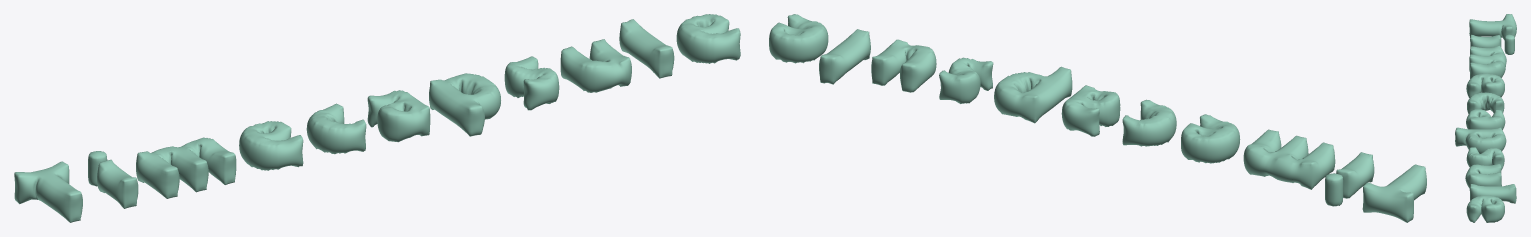
The model's file is title2.glb.
3 renders of one model, left to right at view 1: azimuth 30°, elevation 25°; view 2: azimuth 150°, elevation 25°; view 3: azimuth 270°, elevation 25°, orthographic. The views are drawn at different scales.
Parts seen in each view (by area): view 1: Text; view 2: Text; view 3: Text.
Part boxes in pixels (bbox=[...]): Text: bbox=[14, 14, 740, 222]; Text: bbox=[769, 14, 1426, 222]; Text: bbox=[1455, 14, 1516, 222].
Size of the model in its own units: 5.84 by 0.2527 by 0.7877.
